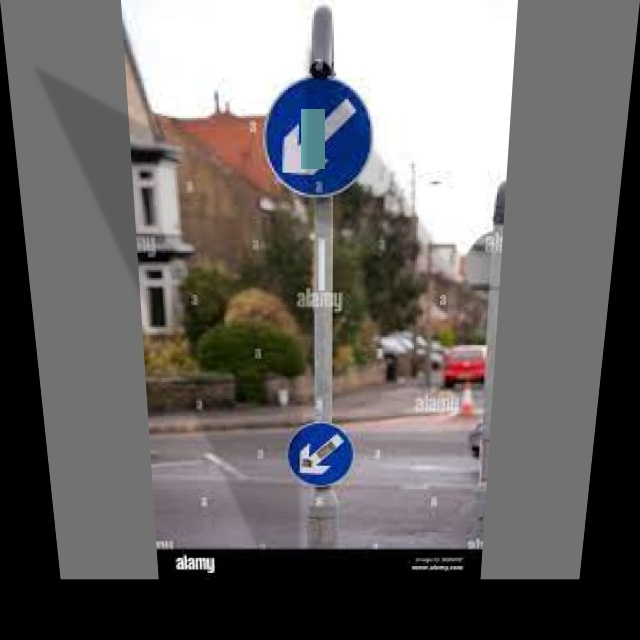Compulsory_Keep_Left: (262, 76, 374, 197)
